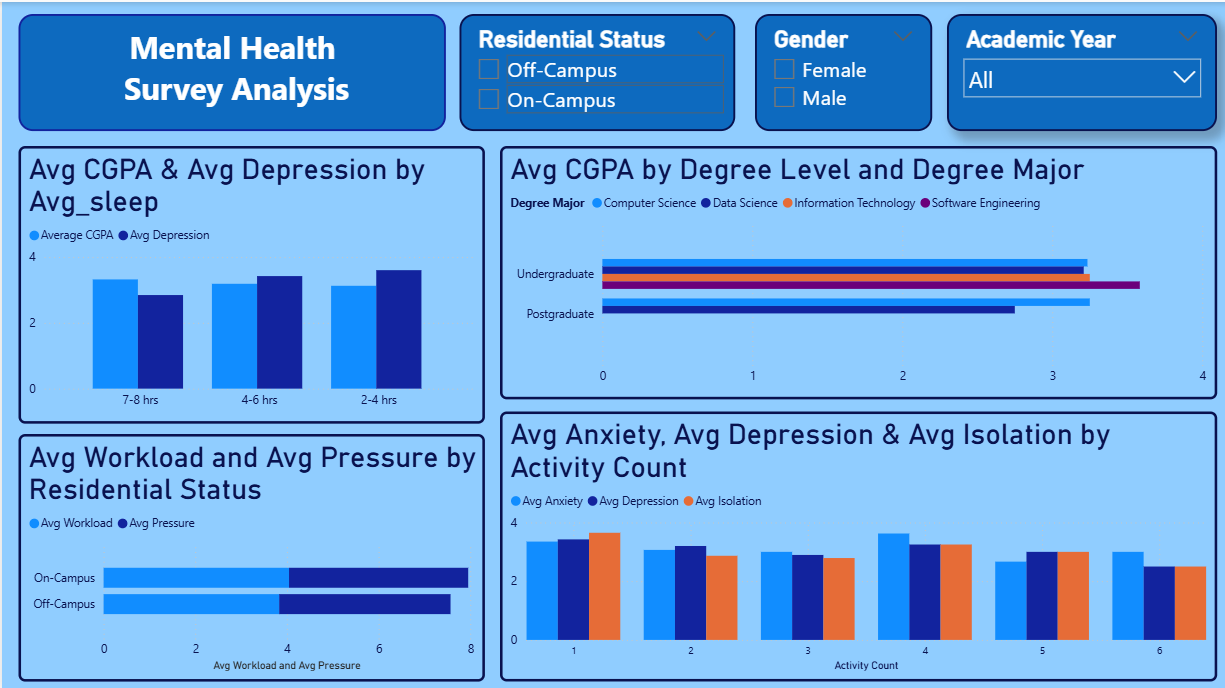

This screenshot's page, from the dashboard's own definition file:
{"tool":"powerbi","page":{"name":"Page 1","canvas":[1280,720],"ordinal":0},"visuals":[{"type":"clusteredBarChart","title":"Avg CGPA by Degree Level and Degree Major","fields":{"Y":["Mental Health Survey Analysis csv.Average CGPA"],"Series":["Mental Health Survey Analysis csv.degree_major"],"Category":["Mental Health Survey Analysis csv.degree_level"]},"box":[518.9,150,747.1,264.1],"z":0},{"type":"lineClusteredColumnComboChart","title":"Avg CGPA & Avg Depression by Avg_sleep","fields":{"Category":["Mental Health Survey Analysis csv.average_sleep"],"Y":["Mental Health Survey Analysis csv.Average CGPA","Mental Health Survey Analysis csv.Avg Depression"]},"box":[17.2,150,486.1,289.2],"z":1000},{"type":"slicer","fields":{"Values":["Mental Health Survey Analysis csv.residential_status"]},"box":[476.7,12.5,287.6,121.9],"z":2000},{"type":"slicer","fields":{"Values":["Mental Health Survey Analysis csv.gender"]},"box":[784.6,12.5,184.4,121.9],"z":3000},{"type":"textbox","box":[17.2,12.5,445.5,121.9],"z":4000},{"type":"slicer","fields":{"Values":["Mental Health Survey Analysis csv.academic_year"]},"box":[984.7,12.5,281.3,121.9],"z":5000},{"type":"barChart","title":"Avg Workload and Avg Pressure by Residential Status","fields":{"Category":["Mental Health Survey Analysis csv.residential_status"],"Y":["Mental Health Survey Analysis csv.Avg Workload","Mental Health Survey Analysis csv.Avg Pressure"]},"box":[17.2,450.1,486.1,257.9],"z":6000},{"type":"clusteredColumnChart","title":"Avg Anxiety, Avg Depression & Avg Isolation by Activity Count","fields":{"Category":["Mental Health Survey Analysis csv.Activity_Count"],"Y":["Mental Health Survey Analysis csv.Avg Anxiety","Mental Health Survey Analysis csv.Avg Depression","Mental Health Survey Analysis csv.Avg Isolation"]},"box":[518.9,426.7,747.1,281.3],"z":7000}]}

Visuals, with their boxes in screenshot pixels (x1, y1, x2, y2), scaled from the page's 1280x720 canvas onto the 1225x688 screenshot:
"Avg CGPA by Degree Level and Degree Major" clusteredBarChart: x1=497 y1=143 x2=1212 y2=396
"Avg CGPA & Avg Depression by Avg_sleep" lineClusteredColumnComboChart: x1=16 y1=143 x2=482 y2=420
slicer - Mental Health Survey Analysis csv.residential_status: x1=456 y1=12 x2=731 y2=128
slicer - Mental Health Survey Analysis csv.gender: x1=751 y1=12 x2=927 y2=128
textbox: x1=16 y1=12 x2=443 y2=128
slicer - Mental Health Survey Analysis csv.academic_year: x1=942 y1=12 x2=1212 y2=128
"Avg Workload and Avg Pressure by Residential Status" barChart: x1=16 y1=430 x2=482 y2=677
"Avg Anxiety, Avg Depression & Avg Isolation by Activity Count" clusteredColumnChart: x1=497 y1=408 x2=1212 y2=677
